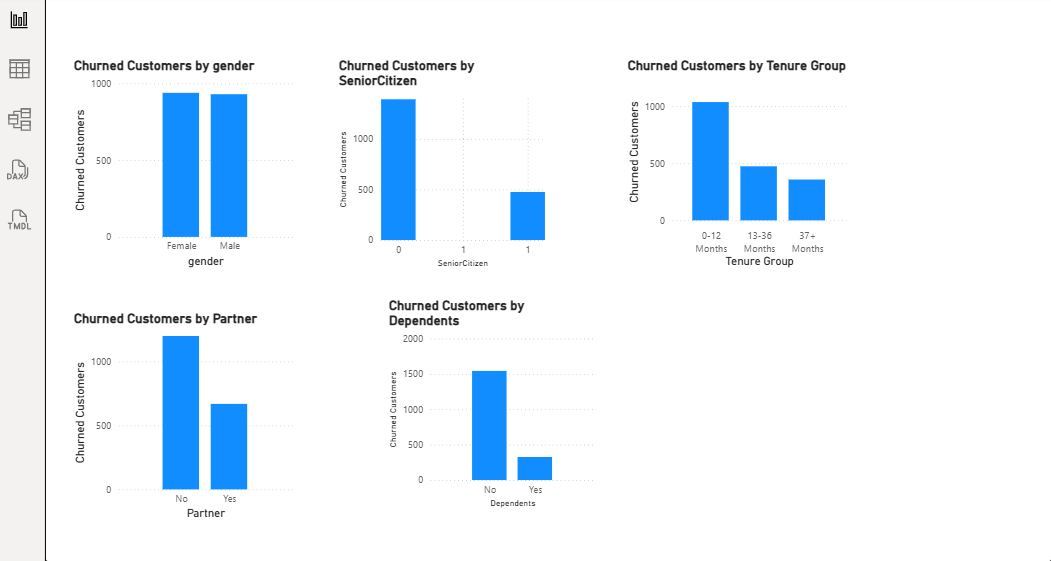

The page's visual inventory and layout, read from the dashboard file:
{"tool":"powerbi","page":{"name":"Customer Anlysis","canvas":[1280,720],"ordinal":1},"visuals":[{"type":"clusteredColumnChart","fields":{"Category":["Churn_Data.gender"],"Y":["Churn_Data.Churned Customers"]},"box":[32,80,288,272],"z":0},{"type":"clusteredColumnChart","fields":{"Category":["Churn_Data.SeniorCitizen"],"Y":["Churn_Data.Churned Customers"]},"box":[368,80,272,272],"z":1000},{"type":"clusteredColumnChart","fields":{"Category":["Churn_Data.Tenure Group"],"Y":["Churn_Data.Churned Customers"]},"box":[736,80,288,272],"z":2000},{"type":"clusteredColumnChart","fields":{"Category":["Churn_Data.Partner"],"Y":["Churn_Data.Churned Customers"]},"box":[32,400,288,272],"z":3000},{"type":"clusteredColumnChart","fields":{"Category":["Churn_Data.Dependents"],"Y":["Churn_Data.Churned Customers"]},"box":[432,384,272,272],"z":4000}]}

Visuals, with their boxes on the page's 1280x720 design canvas (x1, y1, x2, y2). These are canvas units, not pixel positions in the 1051x561 screenshot, which may show the page scaled, cropped or inside an application window:
clusteredColumnChart - Churn_Data.gender x Churn_Data.Churned Customers: l=32, t=80, r=320, b=352
clusteredColumnChart - Churn_Data.SeniorCitizen x Churn_Data.Churned Customers: l=368, t=80, r=640, b=352
clusteredColumnChart - Churn_Data.Tenure Group x Churn_Data.Churned Customers: l=736, t=80, r=1024, b=352
clusteredColumnChart - Churn_Data.Partner x Churn_Data.Churned Customers: l=32, t=400, r=320, b=672
clusteredColumnChart - Churn_Data.Dependents x Churn_Data.Churned Customers: l=432, t=384, r=704, b=656
